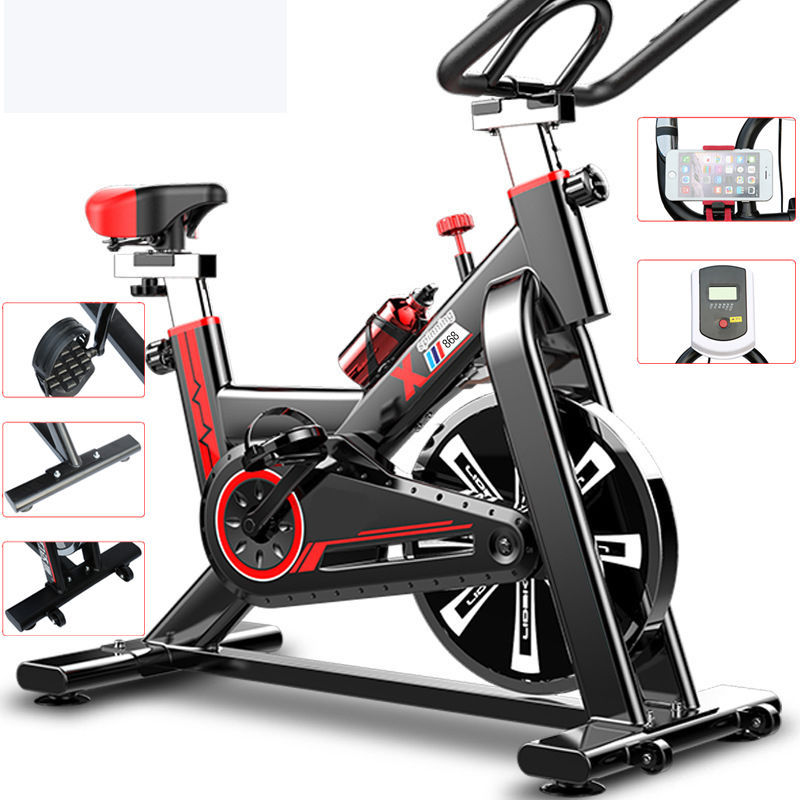gym_bike: (46, 1, 777, 791)
